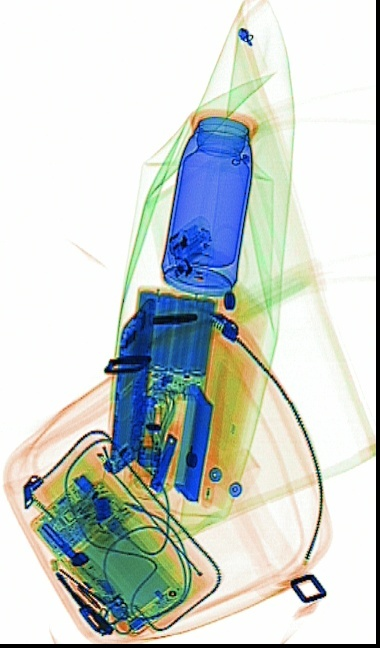powerbank: (119, 284, 224, 401)
